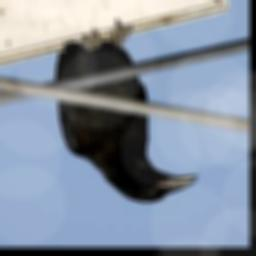Crow: (53, 20, 200, 205)
